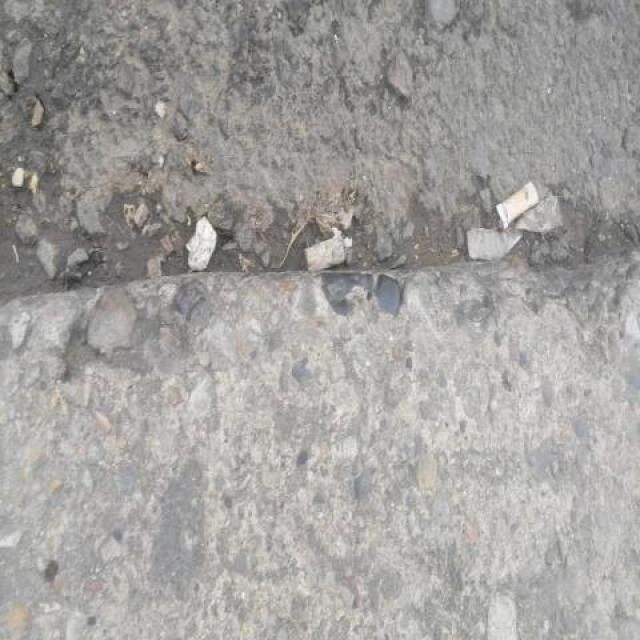non-organic waste: (491, 180, 545, 236)
